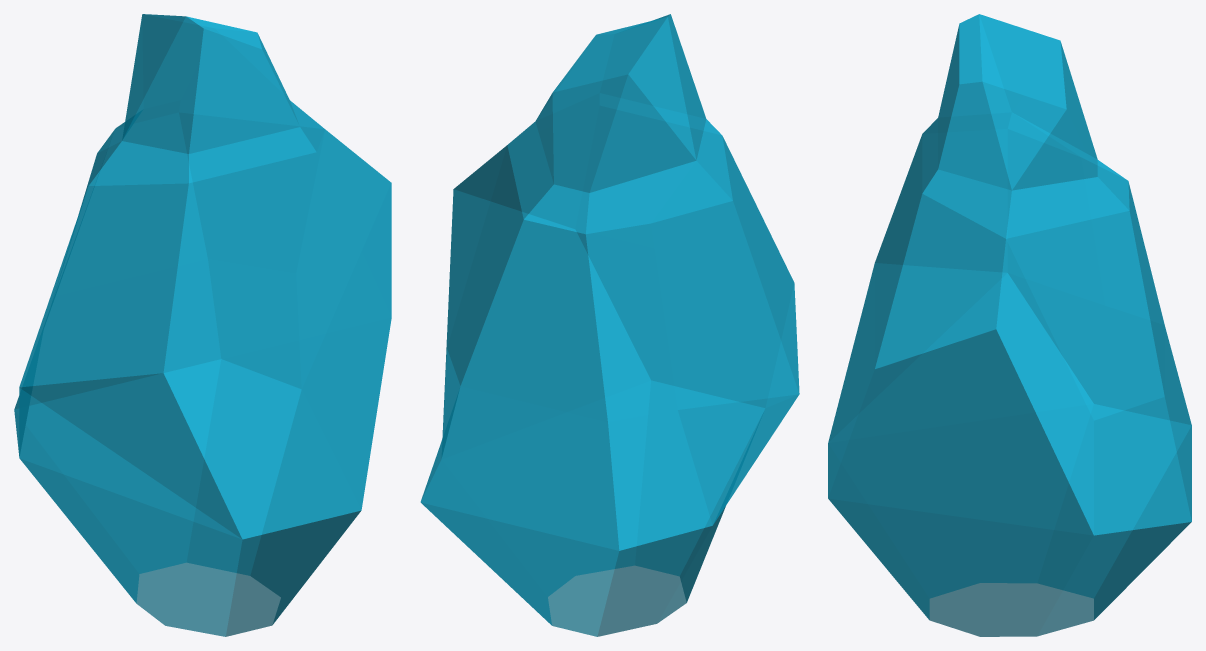
File: iceCube03.fbx
3 views of the same model, side by side, from view 1: azimuth 30°, elevation 25°; view 2: azimuth 150°, elevation 25°; view 3: azimuth 270°, elevation 25° (orthographic). The views are drawn at different scales.
Visible parts, largest first — view 1: iceCube03; view 2: iceCube03; view 3: iceCube03.
Boxes of the visible parts, box(x1,y1,x2,y2) form: iceCube03: box(14, 14, 391, 636); iceCube03: box(420, 14, 799, 636); iceCube03: box(828, 14, 1191, 636).
Size of the model in its own units: 1.44 by 2.27 by 1.29.
